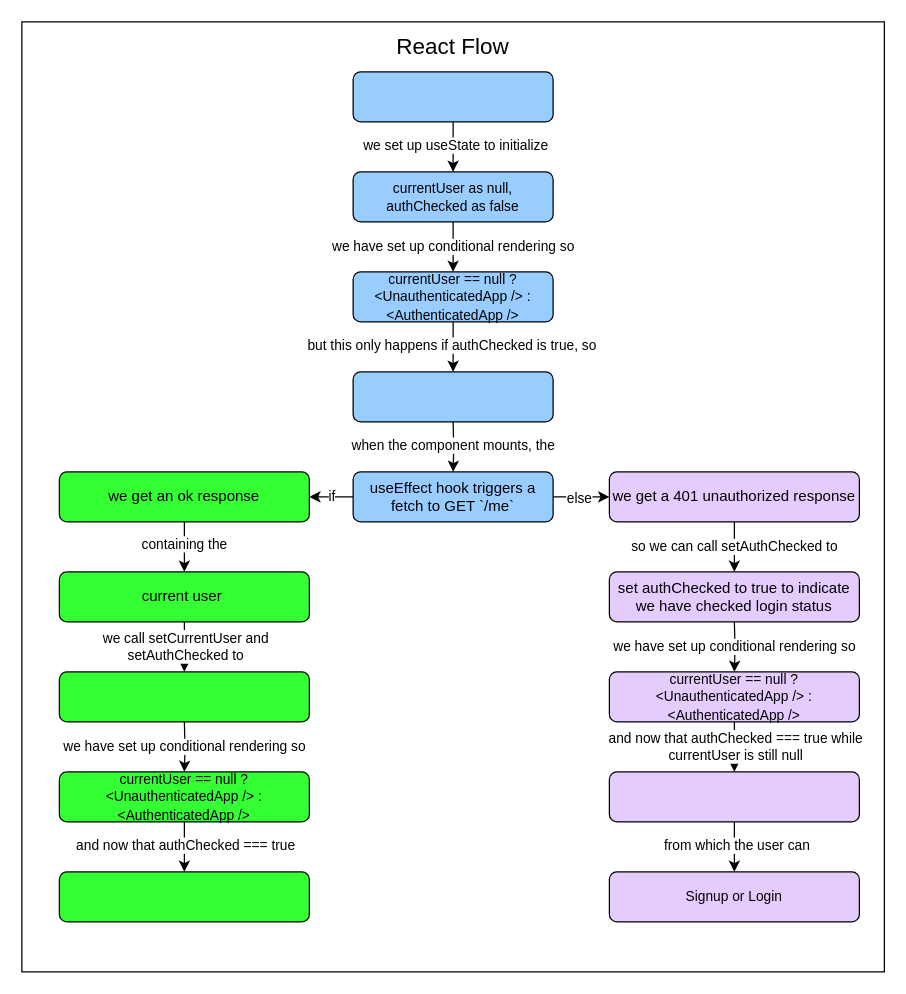
This 906x994 diagram has some shape labels left out. Each missing label, with the box of its shape:
App renders an empty div because authChecked is false: (352, 371, 553, 422)
App renders AuthenticatedApp: (58, 871, 309, 922)
App renders UnauthenticatedApp: (608, 771, 859, 822)
store the current user in state and set authChecked to true: (58, 671, 309, 722)
User visits app and App component mounts: (352, 71, 553, 122)
